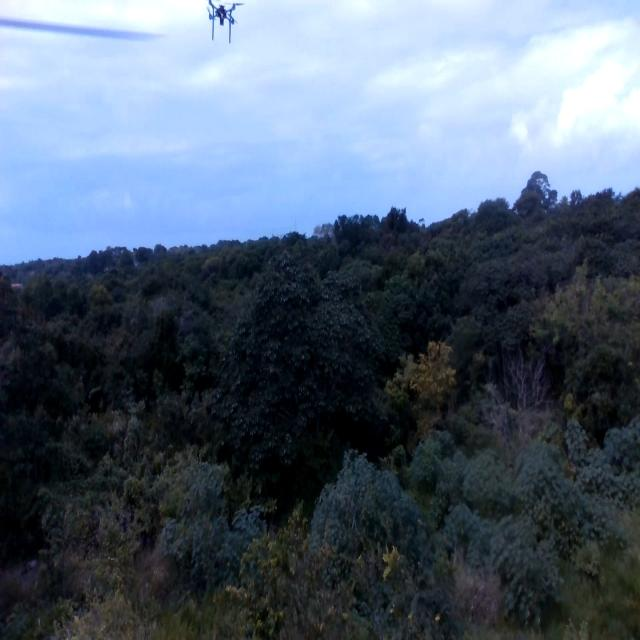-uav-: (202, 0, 248, 56)
